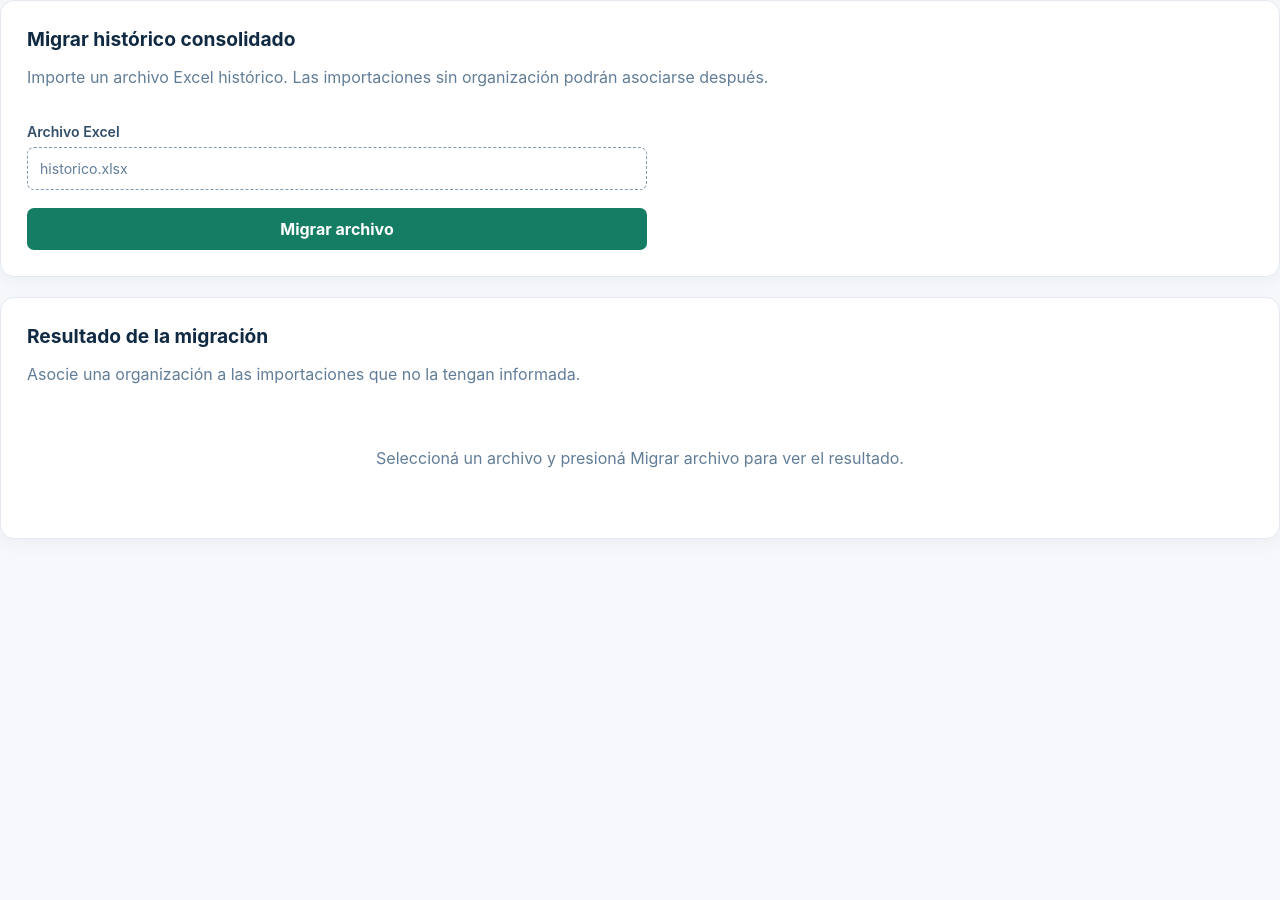
Test: Migration › muestra un mensaje claro para 403, 404 y 409 al asociar
Earlier steps of the test are not shown.
Later steps or results of the test are not shown.
Click the button "Migrar archivo".
click(337, 229)  # box [27, 208, 647, 250]
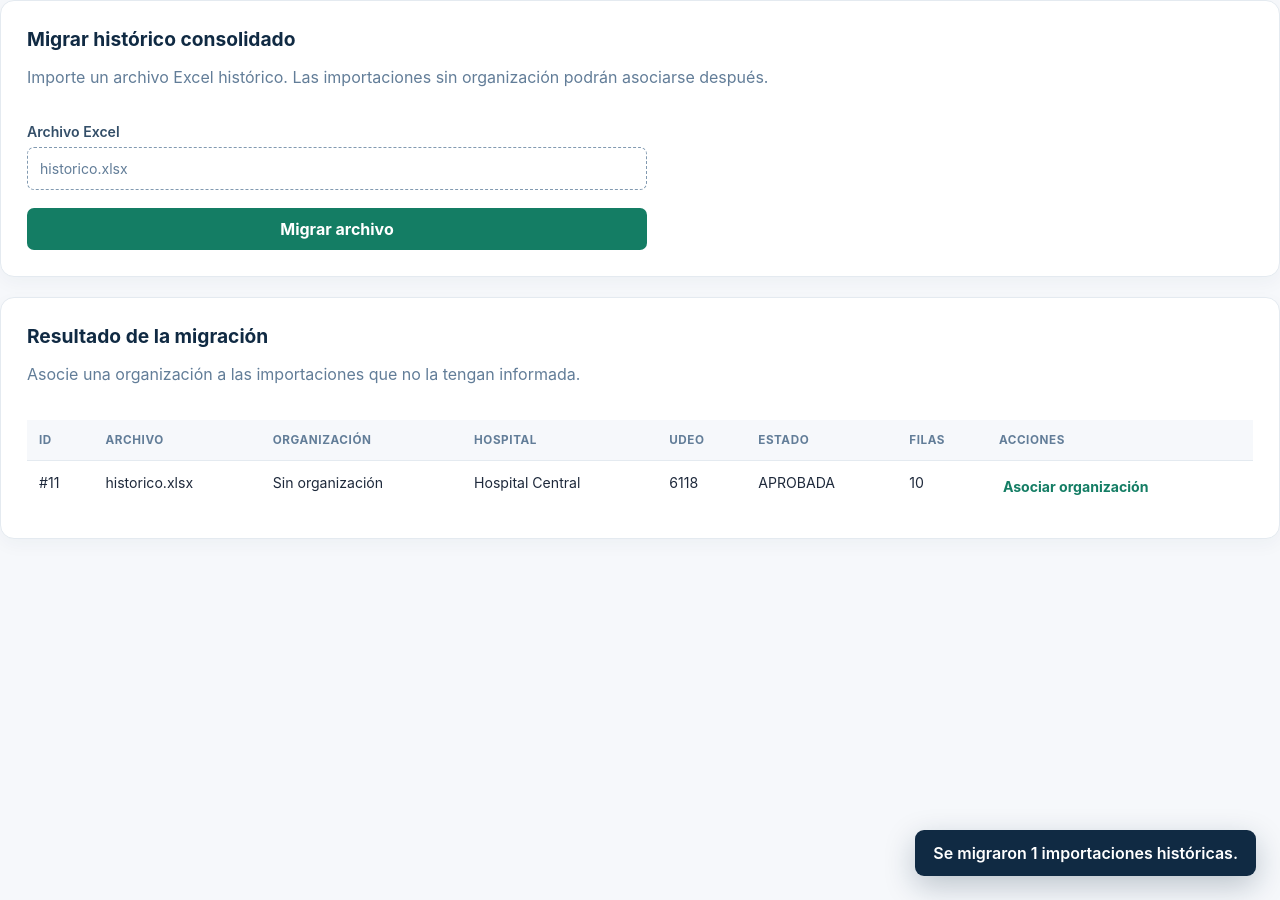
Click the button "Asociar organización".
click(1076, 486)  # box [999, 474, 1152, 499]
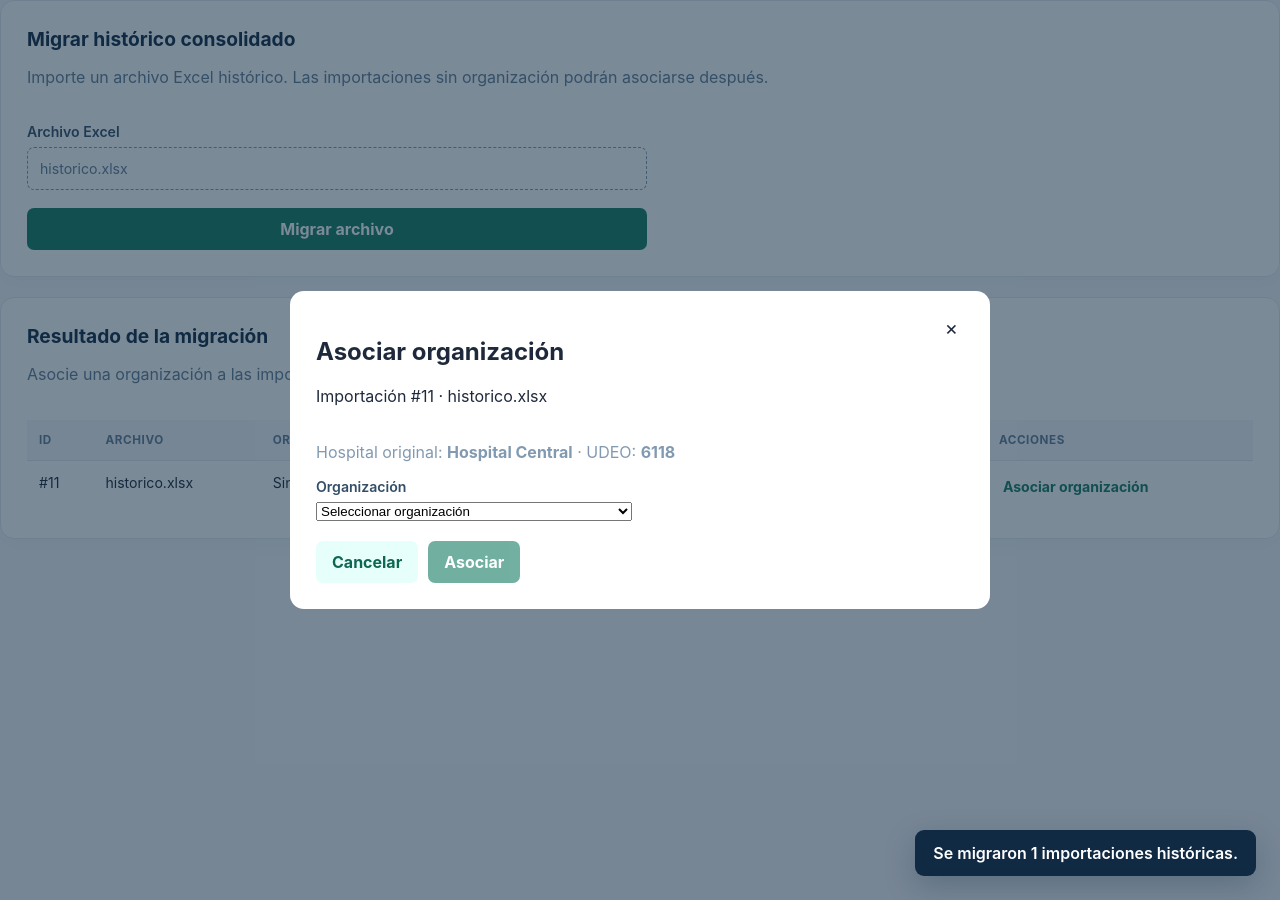
Select "Hospital Sur · 6130" in the dropdown labelled "Organización" at (474, 511), box [316, 502, 632, 521]
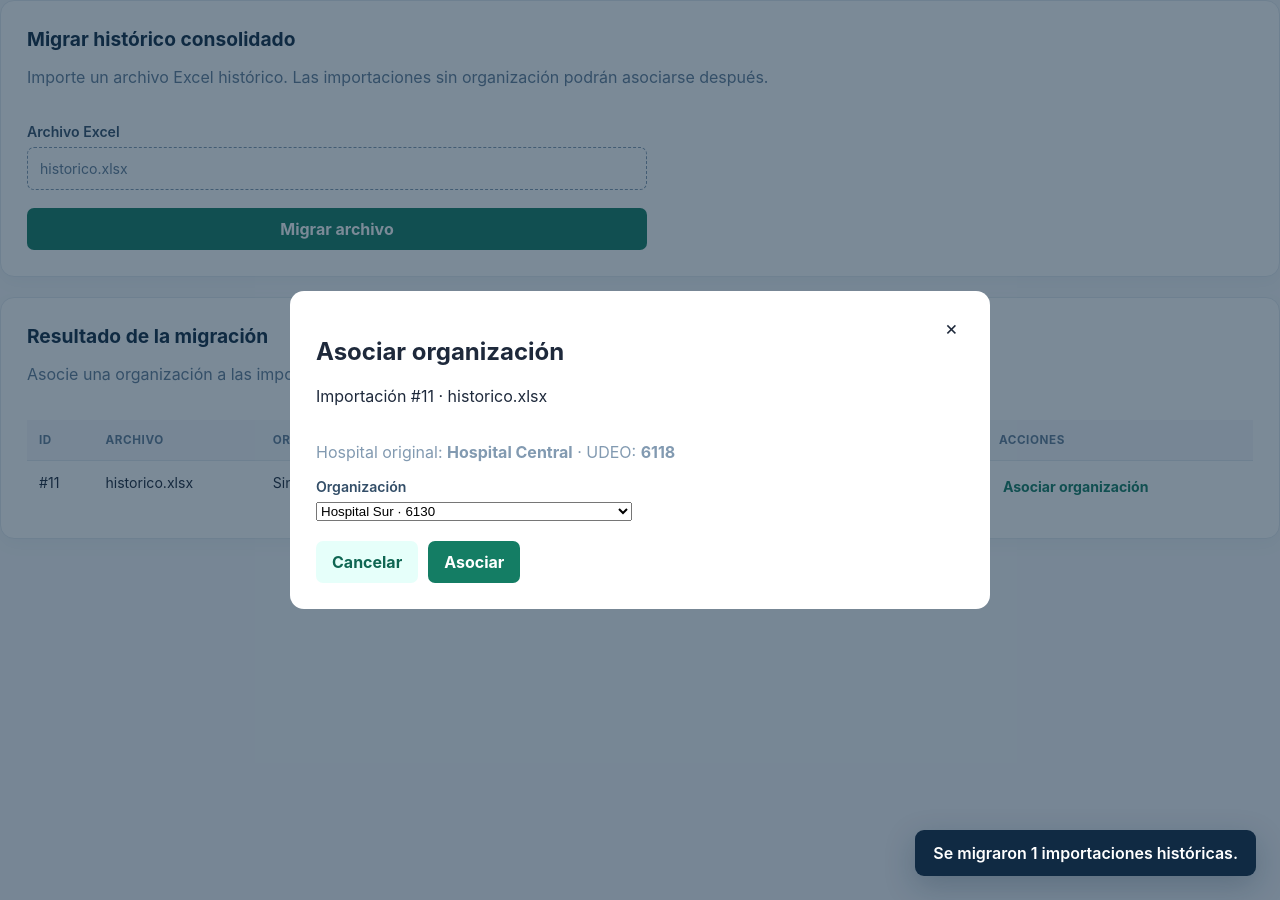
Click the button "Asociar".
click(474, 562)  # box [428, 541, 520, 583]
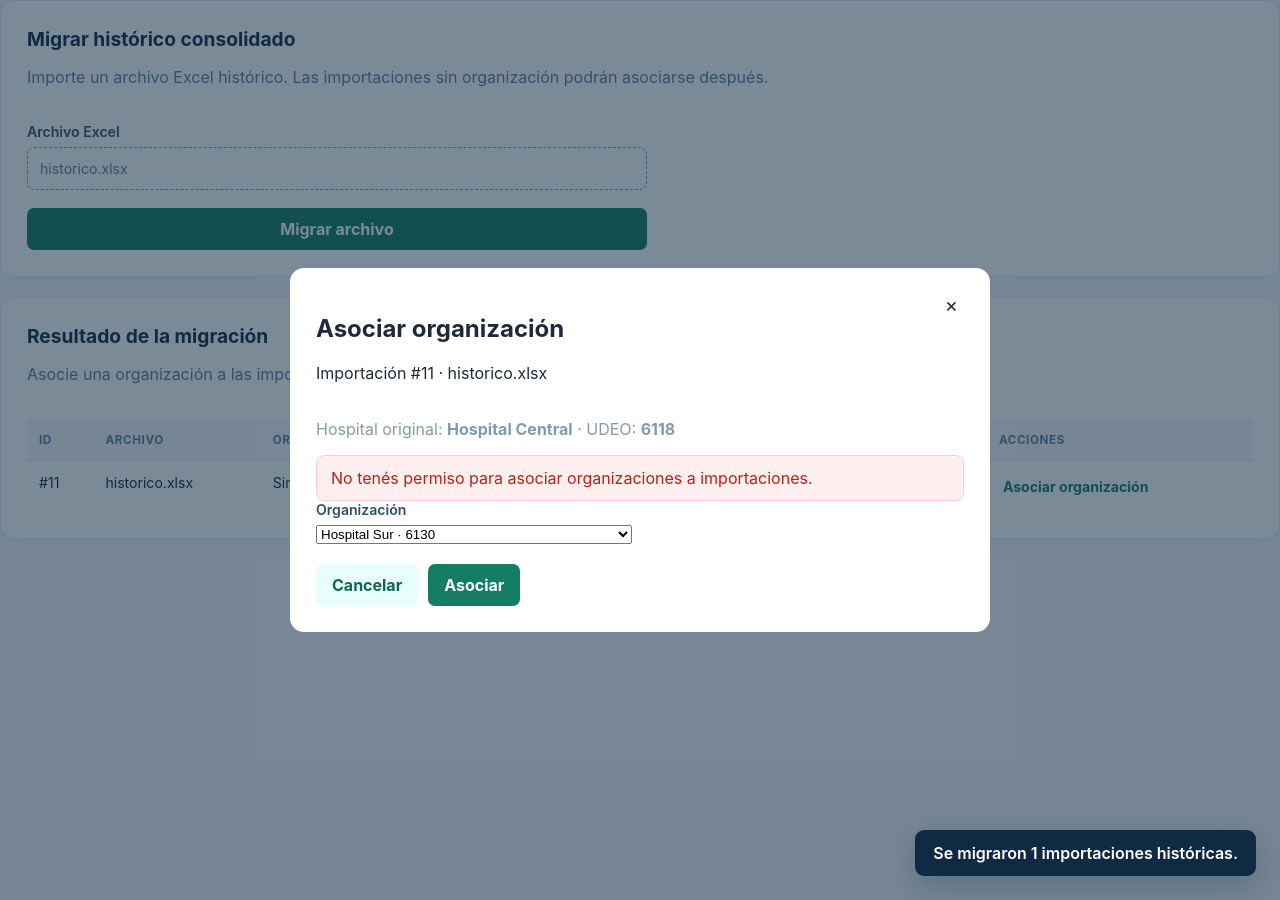
Check: the text "permiso" is shown, box [331, 468, 812, 488]
